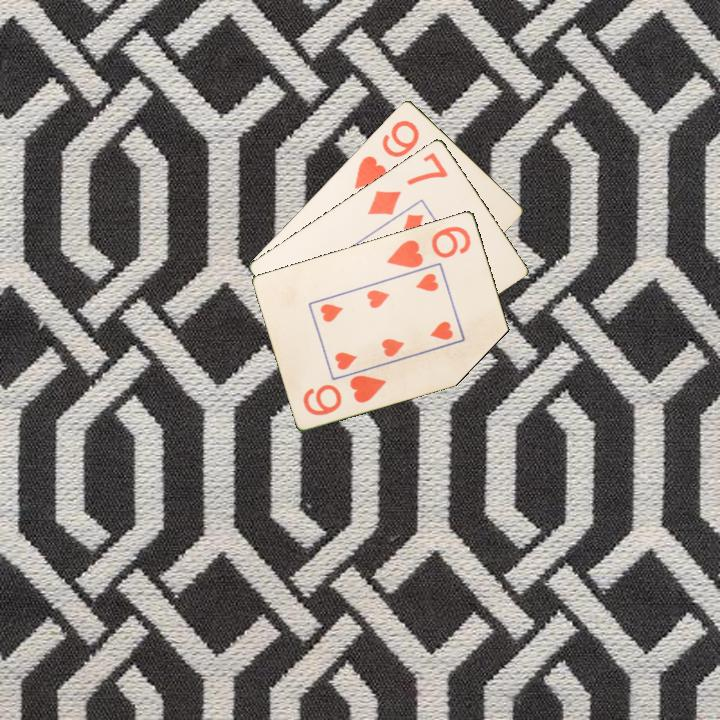6h: (383, 222, 474, 271), (299, 371, 389, 418)
7d: (364, 148, 451, 218)
9h: (351, 116, 422, 192)
